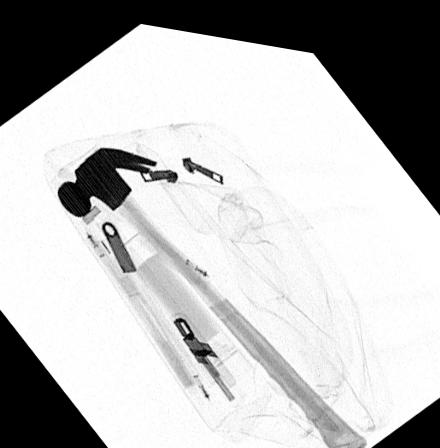Hammer: (56, 142, 368, 447)
